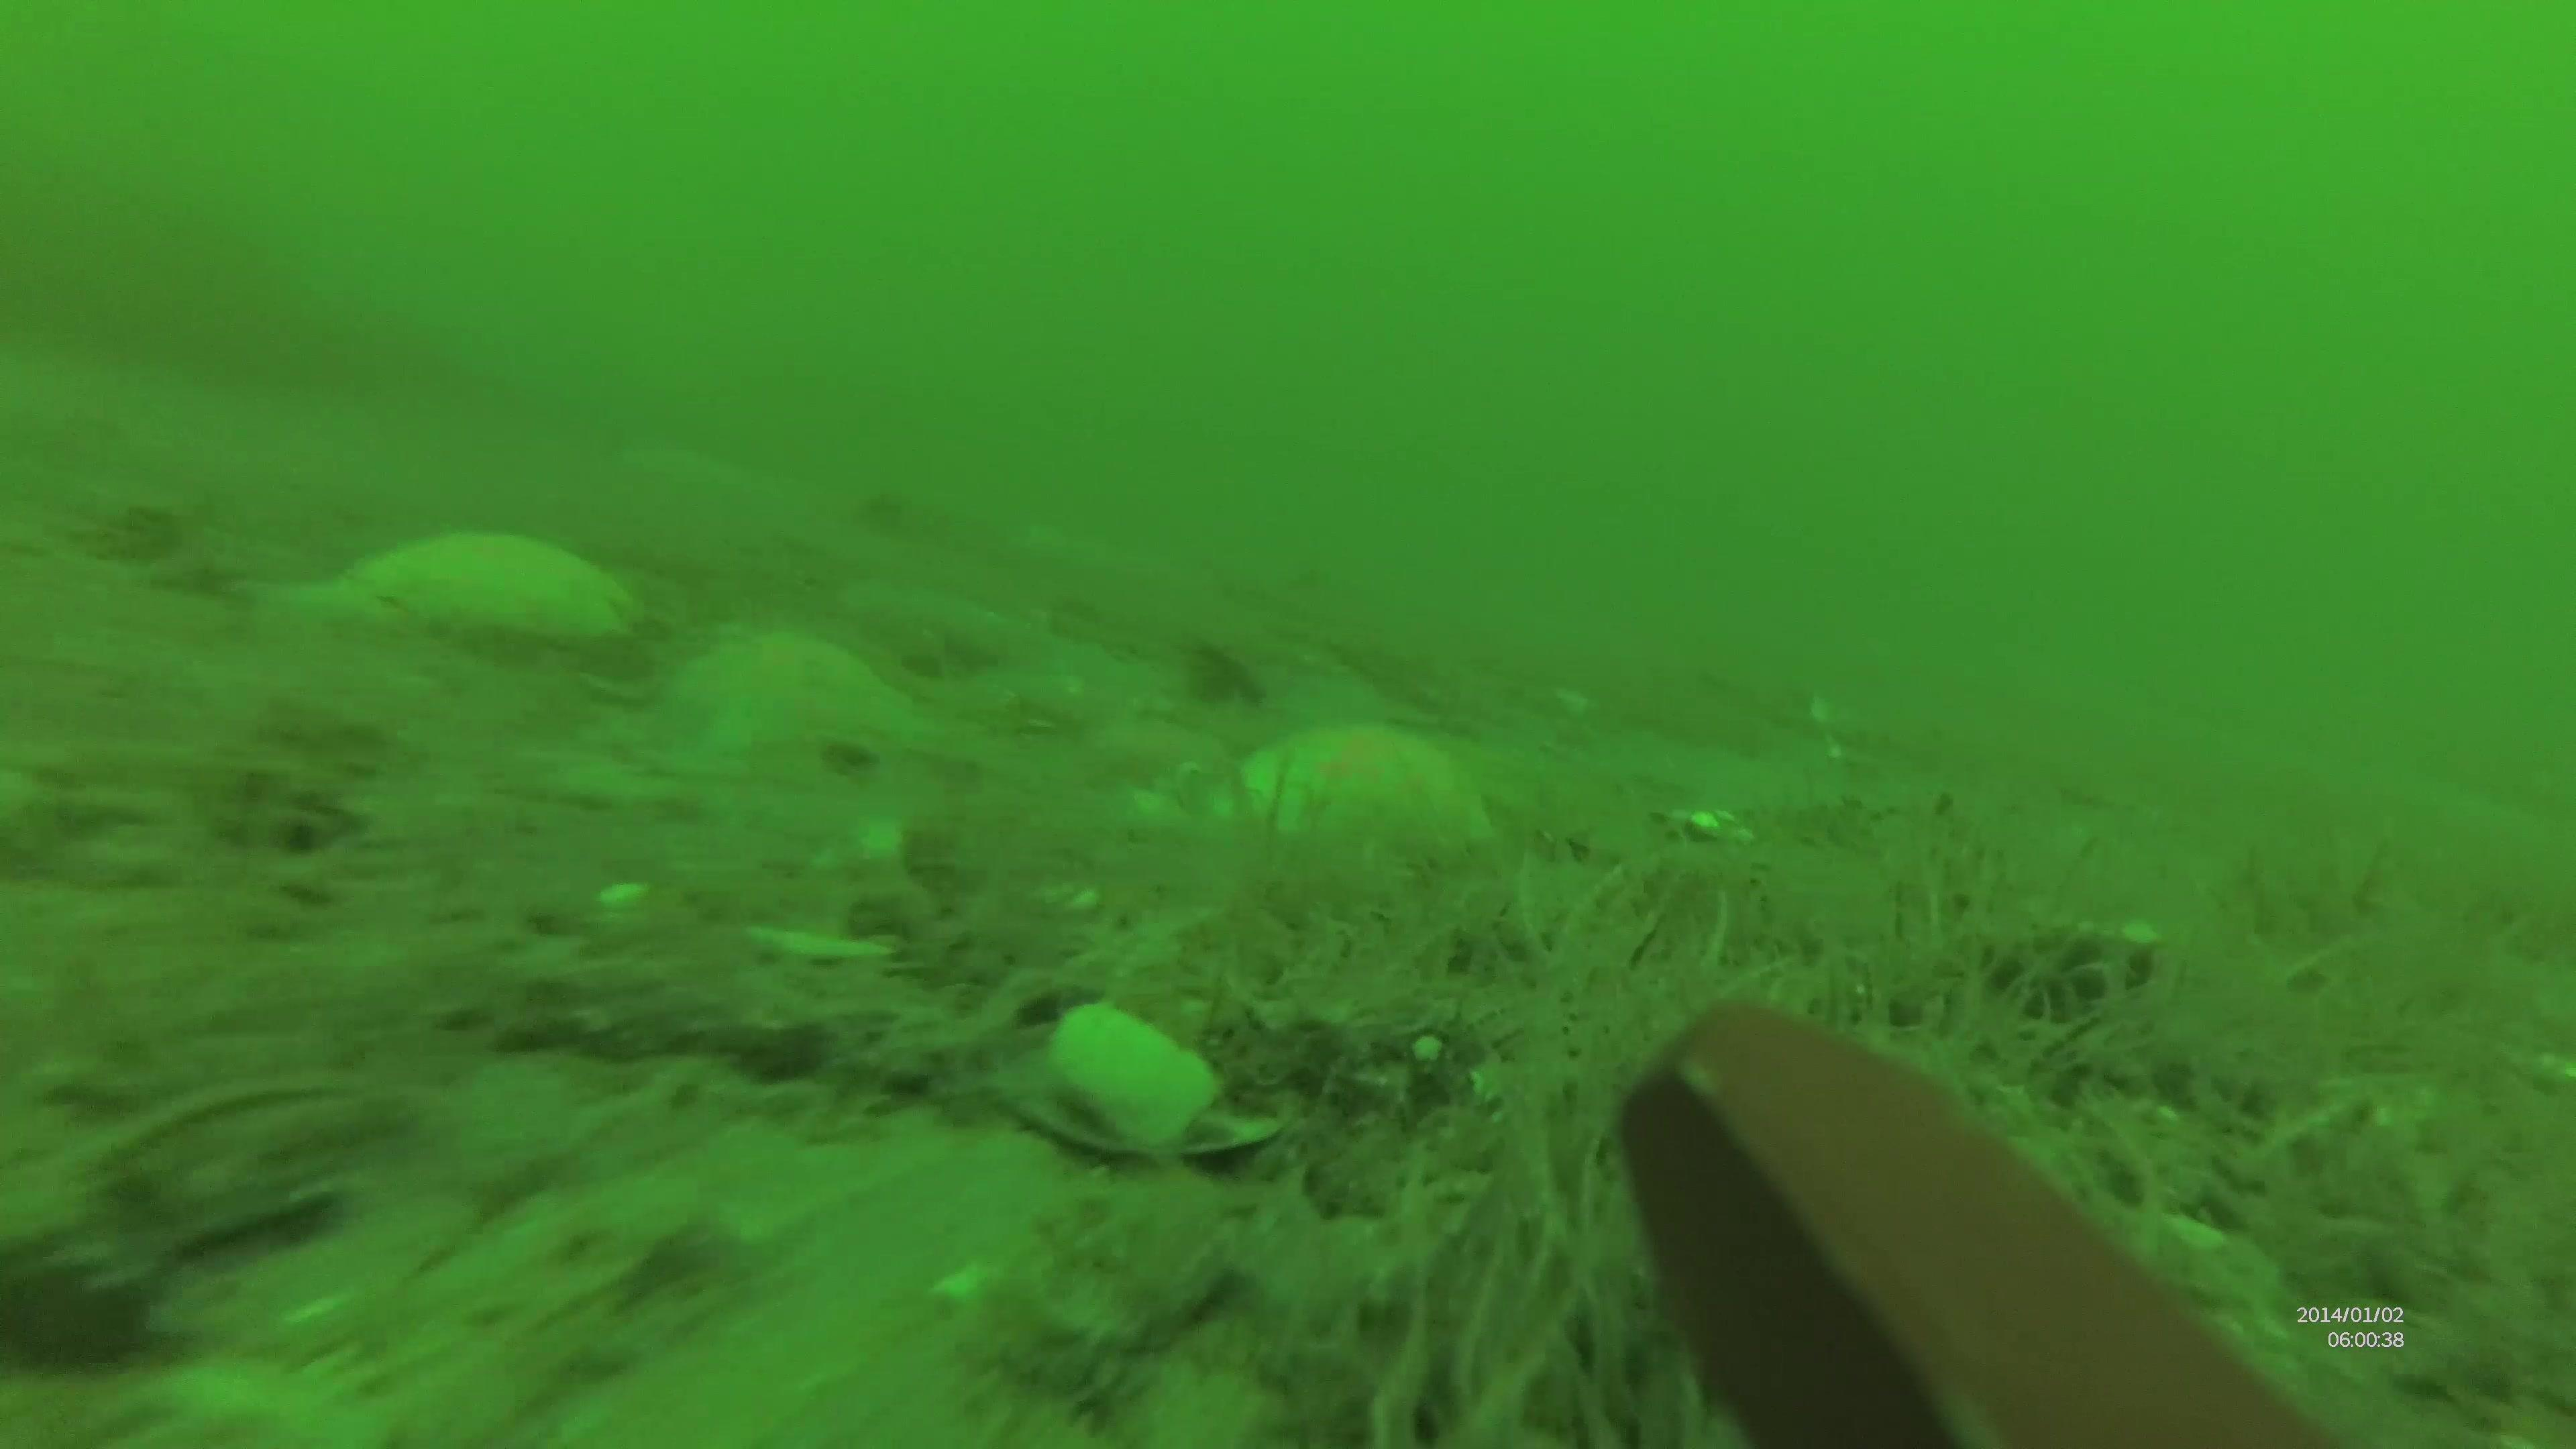scallop: (994, 1000, 1283, 1164)
starfish: (616, 626, 991, 768), (1139, 725, 1504, 851), (262, 529, 646, 644)
